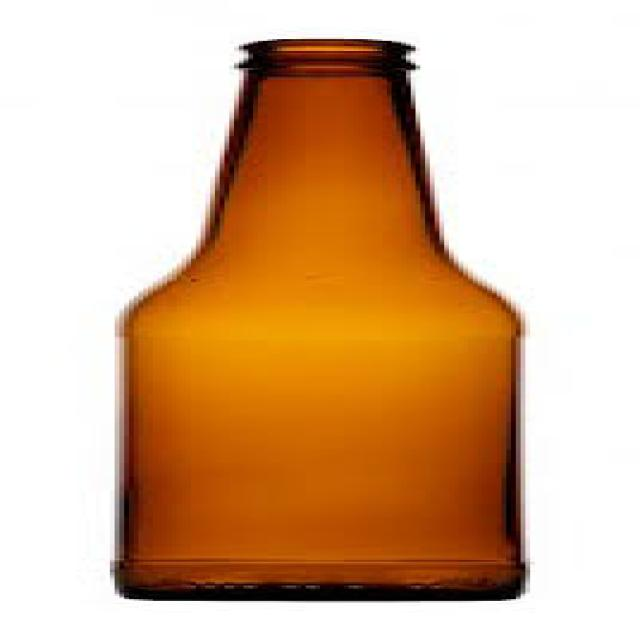glass: (115, 38, 525, 599)
